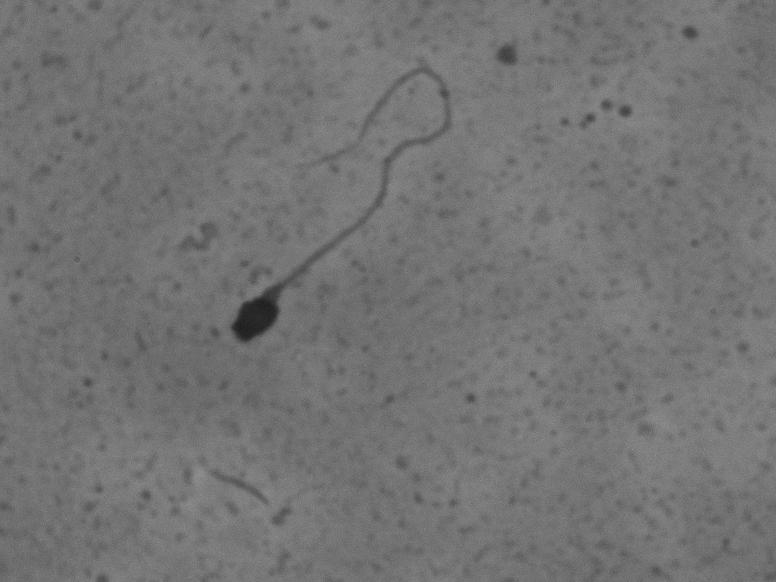Abnormal: (196, 57, 512, 386)
